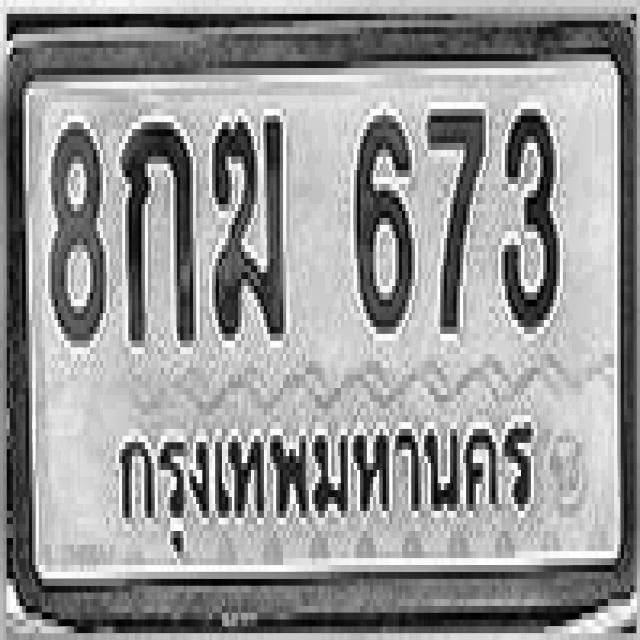license-plate: (8, 32, 636, 616)
